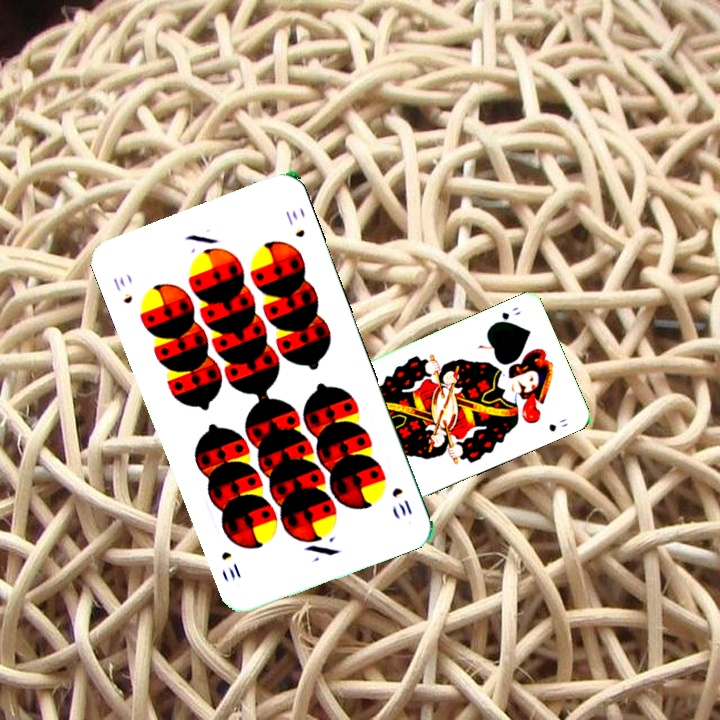GO: (489, 303, 523, 328)
S10: (387, 483, 415, 519), (109, 272, 135, 307)
